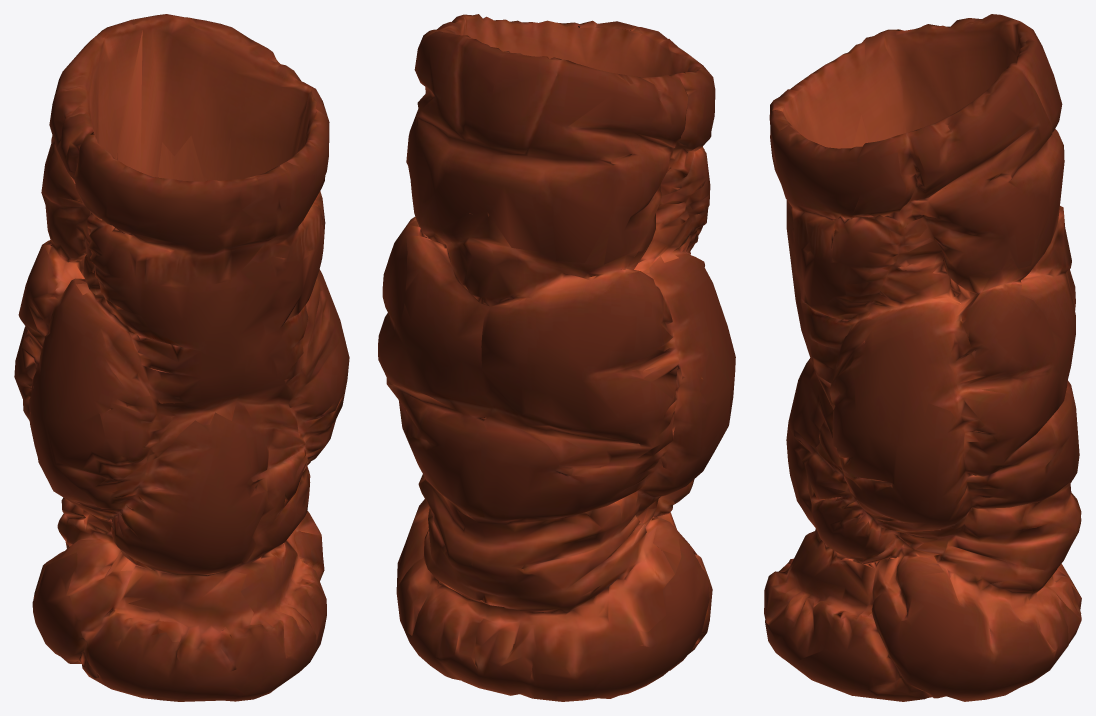
File: 02_4_gs_pv_ii_s_vase.glb
The picture shows the model from 3 angles, left to right: view 1: azimuth 30°, elevation 25°; view 2: azimuth 150°, elevation 25°; view 3: azimuth 270°, elevation 25°; orthographic projection. The views are drawn at different scales.
Visible parts, largest first — view 1: tripo_material_30cd3fdd-a4f8-4ca0-9b30-f44c7f31c2cc.007; view 2: tripo_material_30cd3fdd-a4f8-4ca0-9b30-f44c7f31c2cc.007; view 3: tripo_material_30cd3fdd-a4f8-4ca0-9b30-f44c7f31c2cc.007.
Boxes of the visible parts, box(x1,y1,x2,y2) form: tripo_material_30cd3fdd-a4f8-4ca0-9b30-f44c7f31c2cc.007: box(14, 14, 349, 701); tripo_material_30cd3fdd-a4f8-4ca0-9b30-f44c7f31c2cc.007: box(378, 14, 735, 701); tripo_material_30cd3fdd-a4f8-4ca0-9b30-f44c7f31c2cc.007: box(764, 14, 1081, 701).
Size of the model in its own units: 0.1799 by 0.3401 by 0.1599.
Materials: 1 (1 with a texture image).
